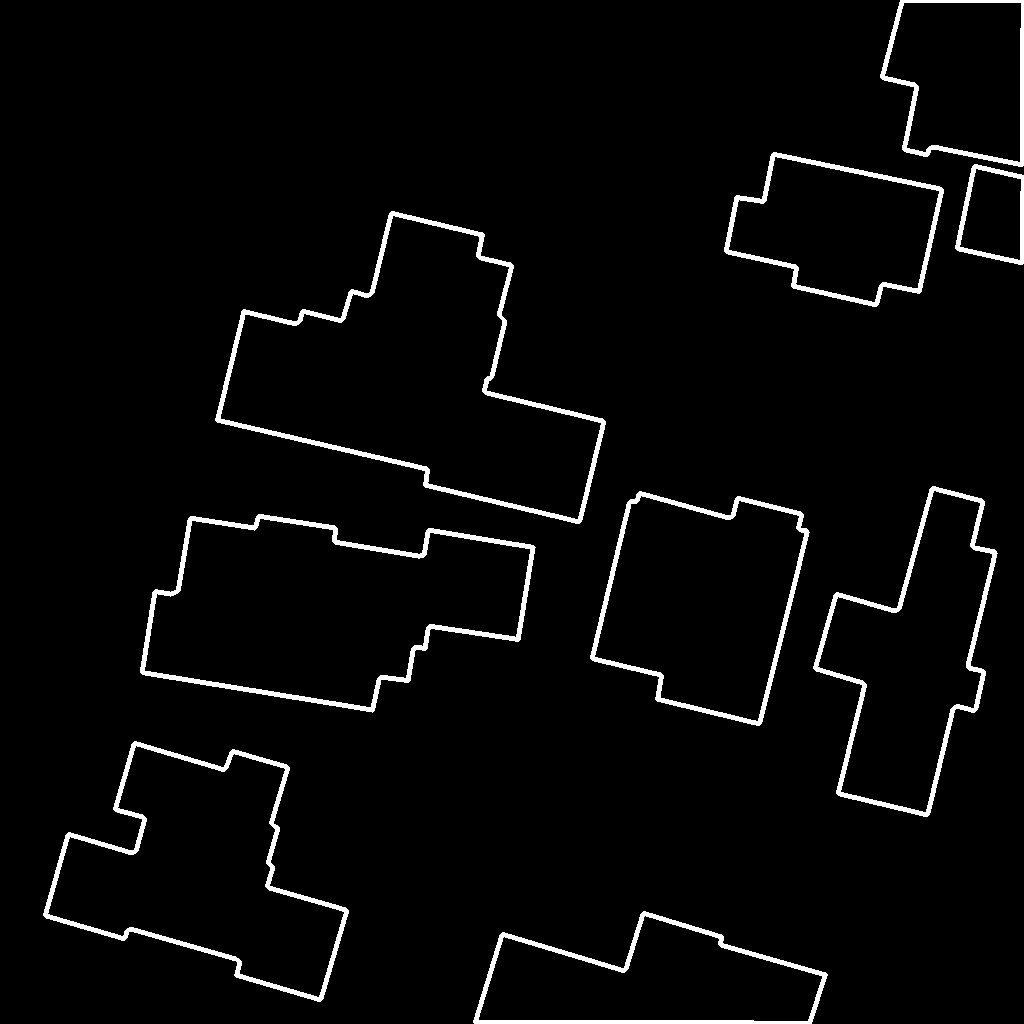building: (217, 213, 605, 523), (45, 743, 348, 1001), (142, 516, 534, 711), (815, 488, 996, 816), (592, 493, 808, 725), (475, 913, 827, 1024), (726, 154, 943, 306), (882, 0, 1024, 166), (957, 166, 1024, 264)
